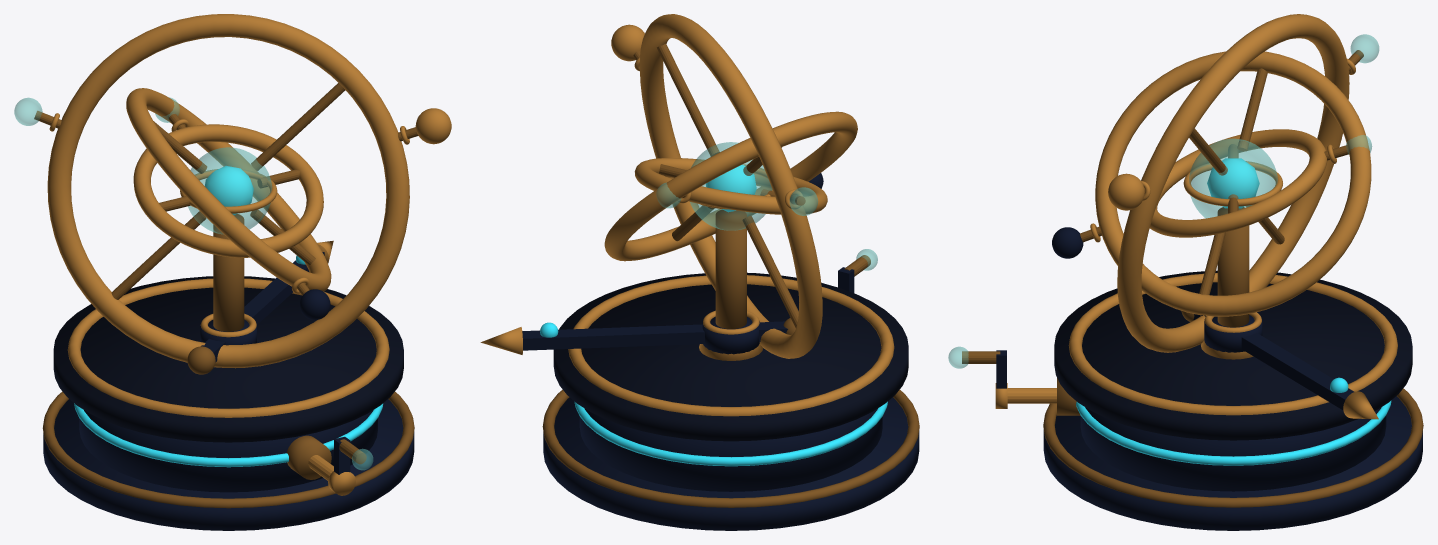
The model's file is a-monumental-tabletop-astronomical-orrery-for-a.fbx.
3 views of the same model, side by side, from view 1: azimuth 30°, elevation 25°; view 2: azimuth 150°, elevation 25°; view 3: azimuth 270°, elevation 25° (orthographic). The views are drawn at different scales.
Parts seen in each view (by area): view 1: OrreryBody, orbit_ring_outer, orbit_ring_middle, orbit_ring_inner, pointer_arm, crank; view 2: OrreryBody, orbit_ring_outer, orbit_ring_middle, pointer_arm, orbit_ring_inner, crank; view 3: OrreryBody, orbit_ring_outer, orbit_ring_middle, orbit_ring_inner, pointer_arm, crank.
Boxes of the visible parts, x1,y1,x2,y2 form: OrreryBody: (14,97,451,530); orbit_ring_outer: (47,14,409,368); orbit_ring_middle: (126,88,331,291); orbit_ring_inner: (133,124,323,257); pointer_arm: (187,240,333,374); crank: (308,436,373,495); OrreryBody: (542,24,919,530); orbit_ring_outer: (639,14,822,358); orbit_ring_middle: (604,111,857,261); pointer_arm: (480,310,795,354); orbit_ring_inner: (634,158,827,214); crank: (838,249,877,292); OrreryBody: (1043,34,1423,530); orbit_ring_outer: (1117,14,1349,352); orbit_ring_middle: (1095,51,1371,316); orbit_ring_inner: (1150,129,1327,237); pointer_arm: (1181,311,1378,419); crank: (948,346,1056,408).
Bounding box in the file's own units: 166 × 199 × 198.
Materials: 6 (6 with a texture image).
